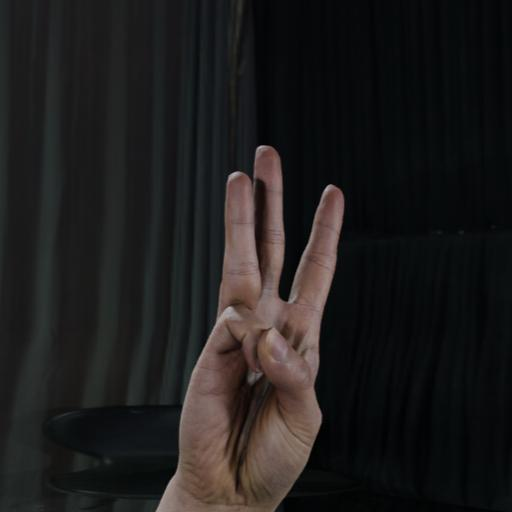W: (148, 78, 424, 512)
